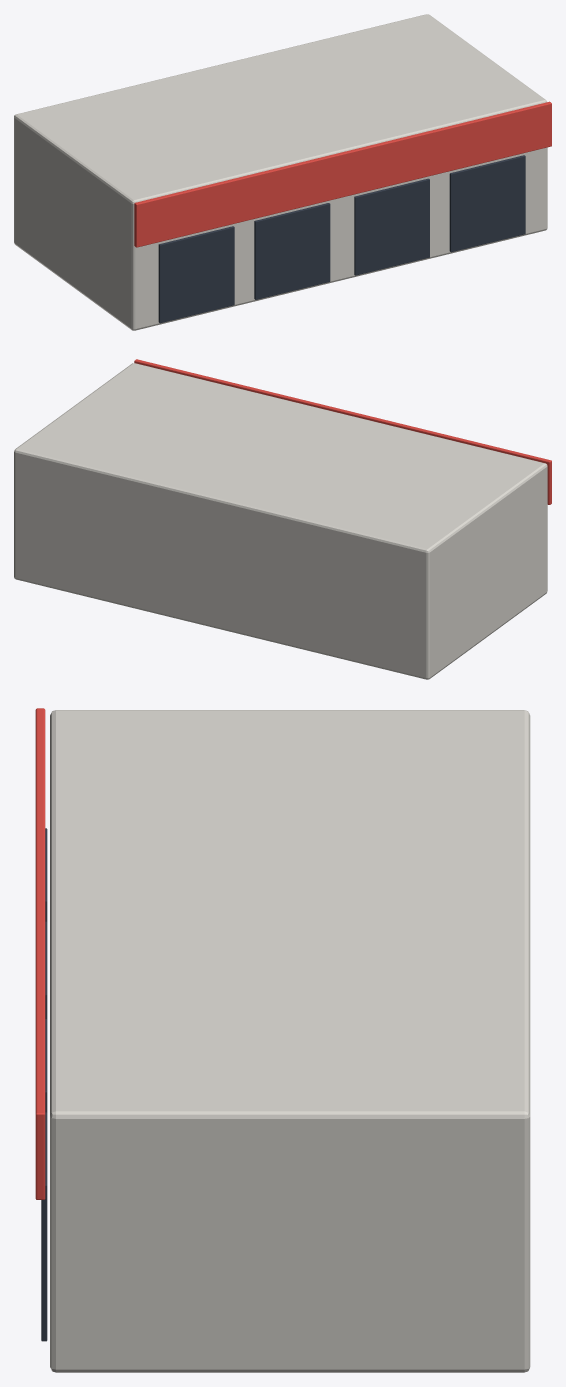
The model's file is Motor_Pit.fbx.
3 renders of one model, top to bottom at view 1: azimuth 30°, elevation 25°; view 2: azimuth 150°, elevation 25°; view 3: azimuth 270°, elevation 25°, orthographic. The views are drawn at different scales.
Parts seen in each view (by area): view 1: Pit; view 2: Pit; view 3: Pit.
Part boxes in pixels (x1,y1,x2,y2): Pit: [14, 14, 551, 330]; Pit: [14, 359, 551, 679]; Pit: [35, 708, 530, 1372].
Bounding box in the file's own units: 10 × 3 × 5.15.
